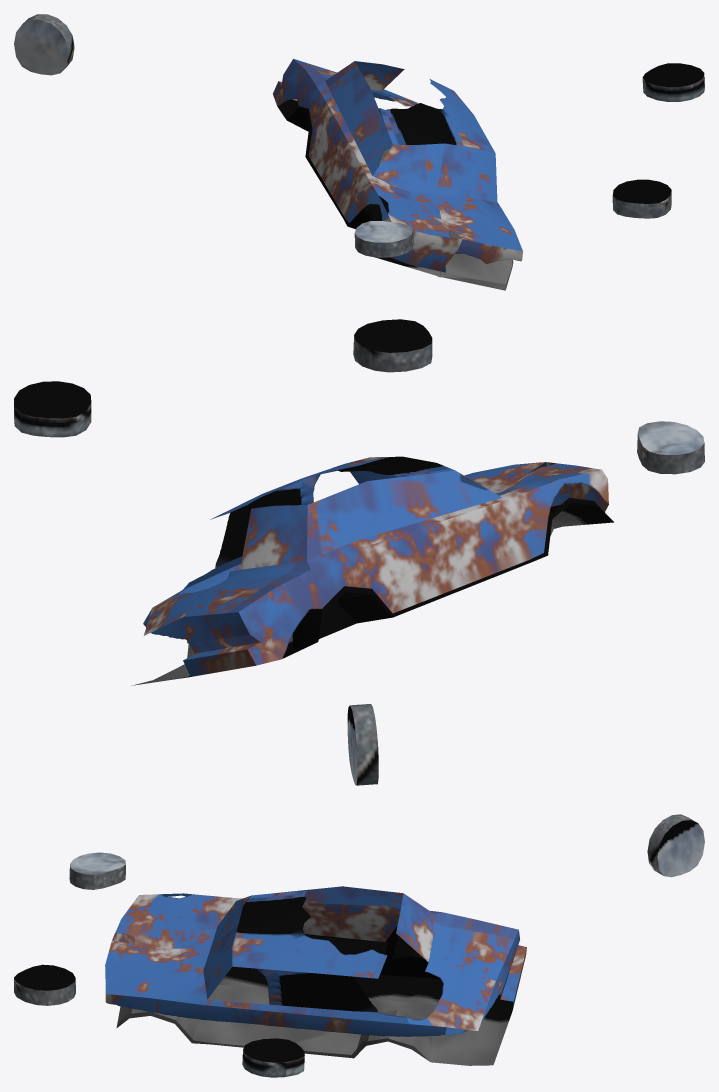
File: Destroyed_Car_3.fbx
3 renders of one model, top to bottom at view 1: azimuth 30°, elevation 25°; view 2: azimuth 150°, elevation 25°; view 3: azimuth 270°, elevation 25°, orthographic. The views are drawn at different scales.
Visible parts, largest first — view 1: Destroyed Car 3; view 2: Destroyed Car 3; view 3: Destroyed Car 3.
Part boxes in pixels (x1,y1,x2,y2): Destroyed Car 3: (14,14,704,290); Destroyed Car 3: (14,319,704,785); Destroyed Car 3: (14,814,704,1077).
Bounding box in the file's own units: 1121 × 301 × 1379.
